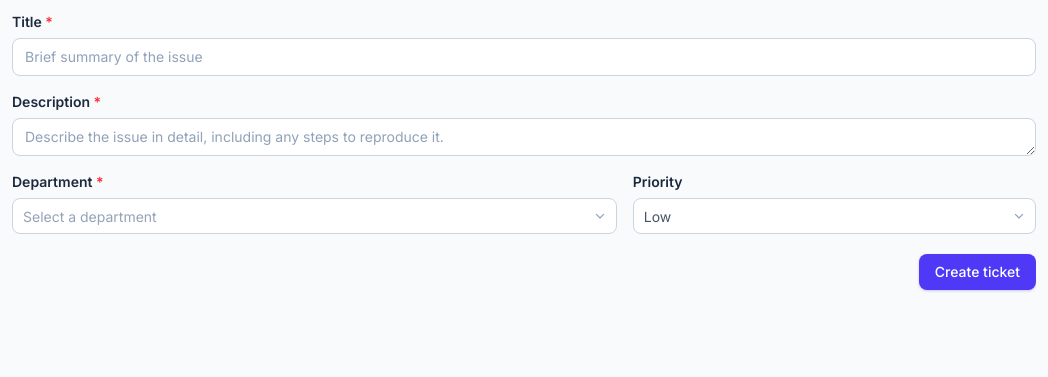
Test: TicketForm › shows validation errors and does not submit when required fields are empty
Click the button "Create ticket": (977, 272) x1=919 y1=254 x2=1036 y2=290
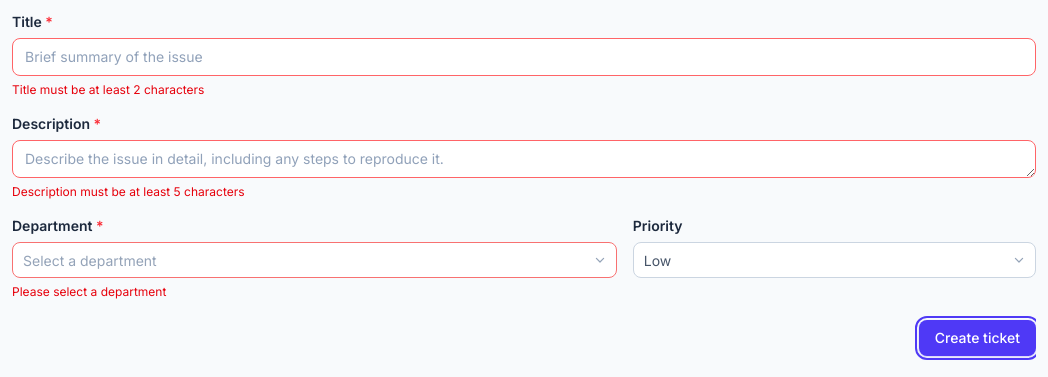
expect the text "Title must be at least 2 characters" is shown: met, box x1=12 y1=82 x2=204 y2=97
expect the text "Description must be at least 5 characters" is shown: met, box x1=12 y1=184 x2=245 y2=199
expect the text "Please select a department" is shown: met, box x1=12 y1=284 x2=166 y2=299
